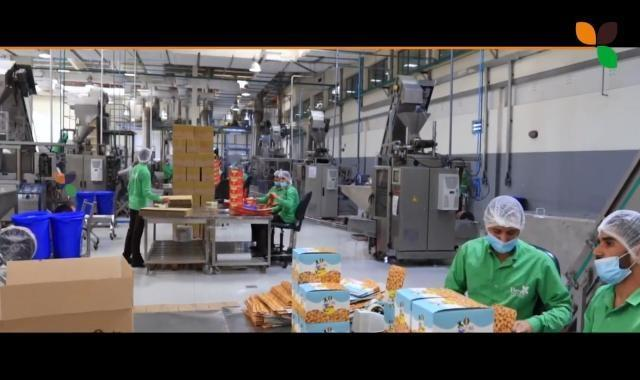gloves: (596, 208, 640, 276), (484, 192, 524, 252), (274, 168, 290, 186), (136, 147, 152, 164)
mask: (587, 236, 637, 292), (478, 216, 526, 260), (274, 174, 292, 191)
